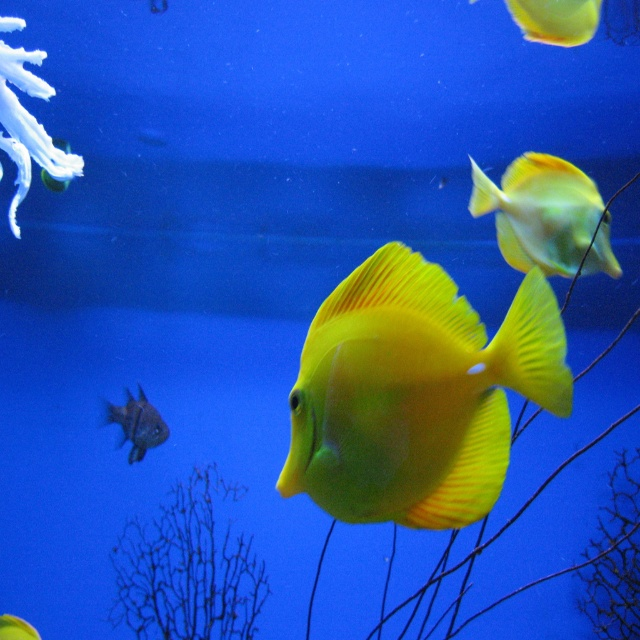Fish: (271, 239, 572, 536), (468, 145, 624, 274), (469, 0, 604, 51), (0, 614, 41, 640)
